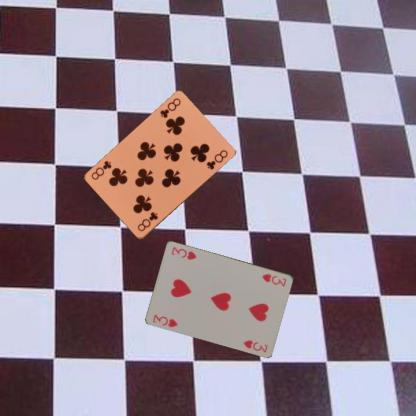3h: (259, 271, 288, 288), (150, 312, 179, 328)
8c: (157, 96, 182, 120), (134, 210, 160, 233)
